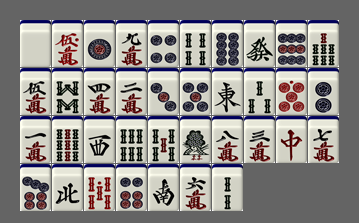0m: (52, 20, 83, 67)
0p: (276, 68, 307, 115)
0s: (84, 164, 115, 211)
1m: (20, 116, 51, 163)
1p: (84, 20, 115, 67)
1s: (180, 116, 211, 163)
1z: (212, 68, 243, 115)
2m: (116, 68, 147, 115)
2p: (308, 68, 339, 115)
2s: (212, 164, 243, 211)
2z: (148, 164, 179, 211)
3m: (244, 116, 275, 163)
3p: (148, 68, 179, 115)
3s: (244, 68, 275, 115)
3z: (84, 116, 115, 163)
4m: (84, 68, 115, 115)
4p: (148, 20, 179, 67)
4s: (180, 20, 211, 67)
4z: (52, 164, 83, 211)
5m: (20, 68, 51, 115)
5p: (180, 68, 211, 115)
5s: (148, 116, 179, 163)
5z: (20, 20, 51, 67)
6m: (180, 164, 211, 211)
6p: (116, 164, 147, 211)
6s: (116, 116, 147, 163)
6z: (244, 20, 275, 67)
7m: (308, 116, 339, 163)
7p: (20, 164, 51, 211)
7s: (308, 20, 339, 67)
7z: (276, 116, 307, 163)
8m: (212, 116, 243, 163)
8p: (212, 20, 243, 67)
8s: (52, 68, 83, 115)
9m: (116, 20, 147, 67)
9p: (276, 20, 307, 67)
9s: (52, 116, 83, 163)
